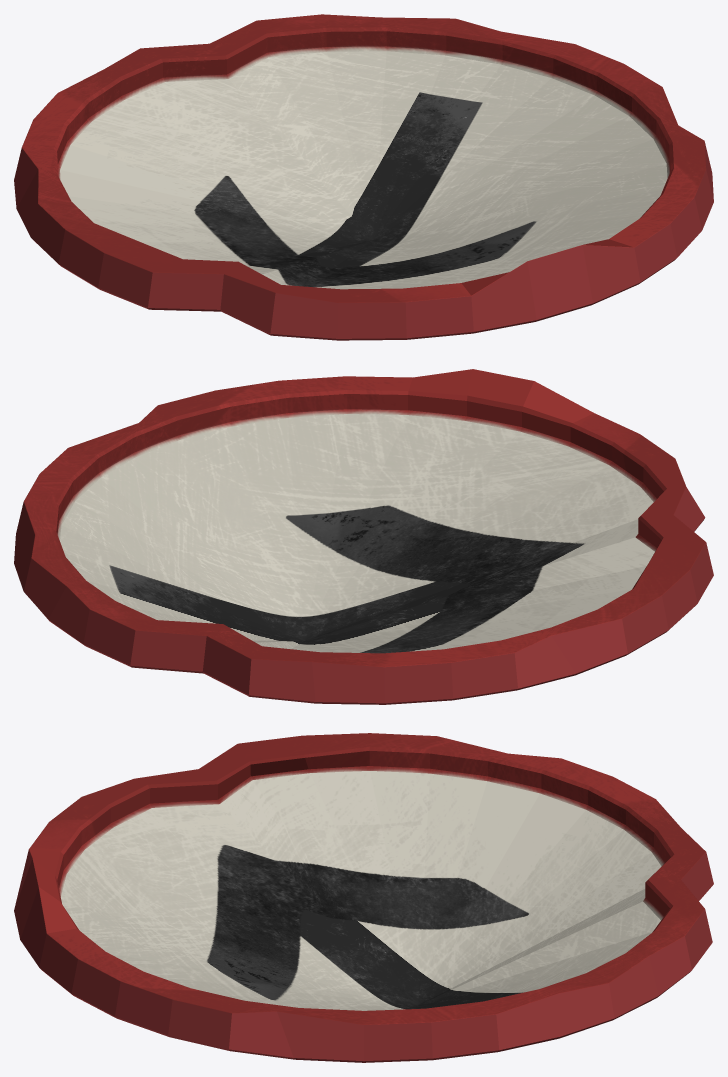
3 views of the same model, one above another, from view 1: azimuth 30°, elevation 25°; view 2: azimuth 150°, elevation 25°; view 3: azimuth 270°, elevation 25° (orthographic).
Visible parts, largest first — view 1: Cylinder.070; view 2: Cylinder.070; view 3: Cylinder.070.
Part boxes in pixels (x1=…): Cylinder.070: x1=14, y1=14, x2=713, y2=340; Cylinder.070: x1=14, y1=369, x2=713, y2=704; Cylinder.070: x1=14, y1=733, x2=713, y2=1062.
Bounding box in the file's own units: 193 × 43.28 × 191.
3 materials, 1 textured.
